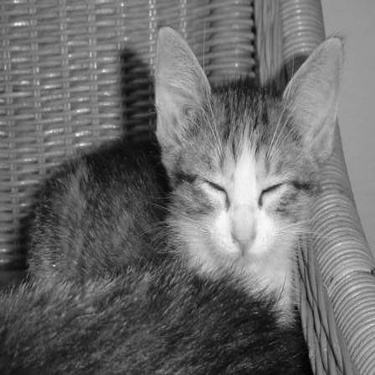cat: (28, 22, 345, 329), (1, 247, 319, 371)
